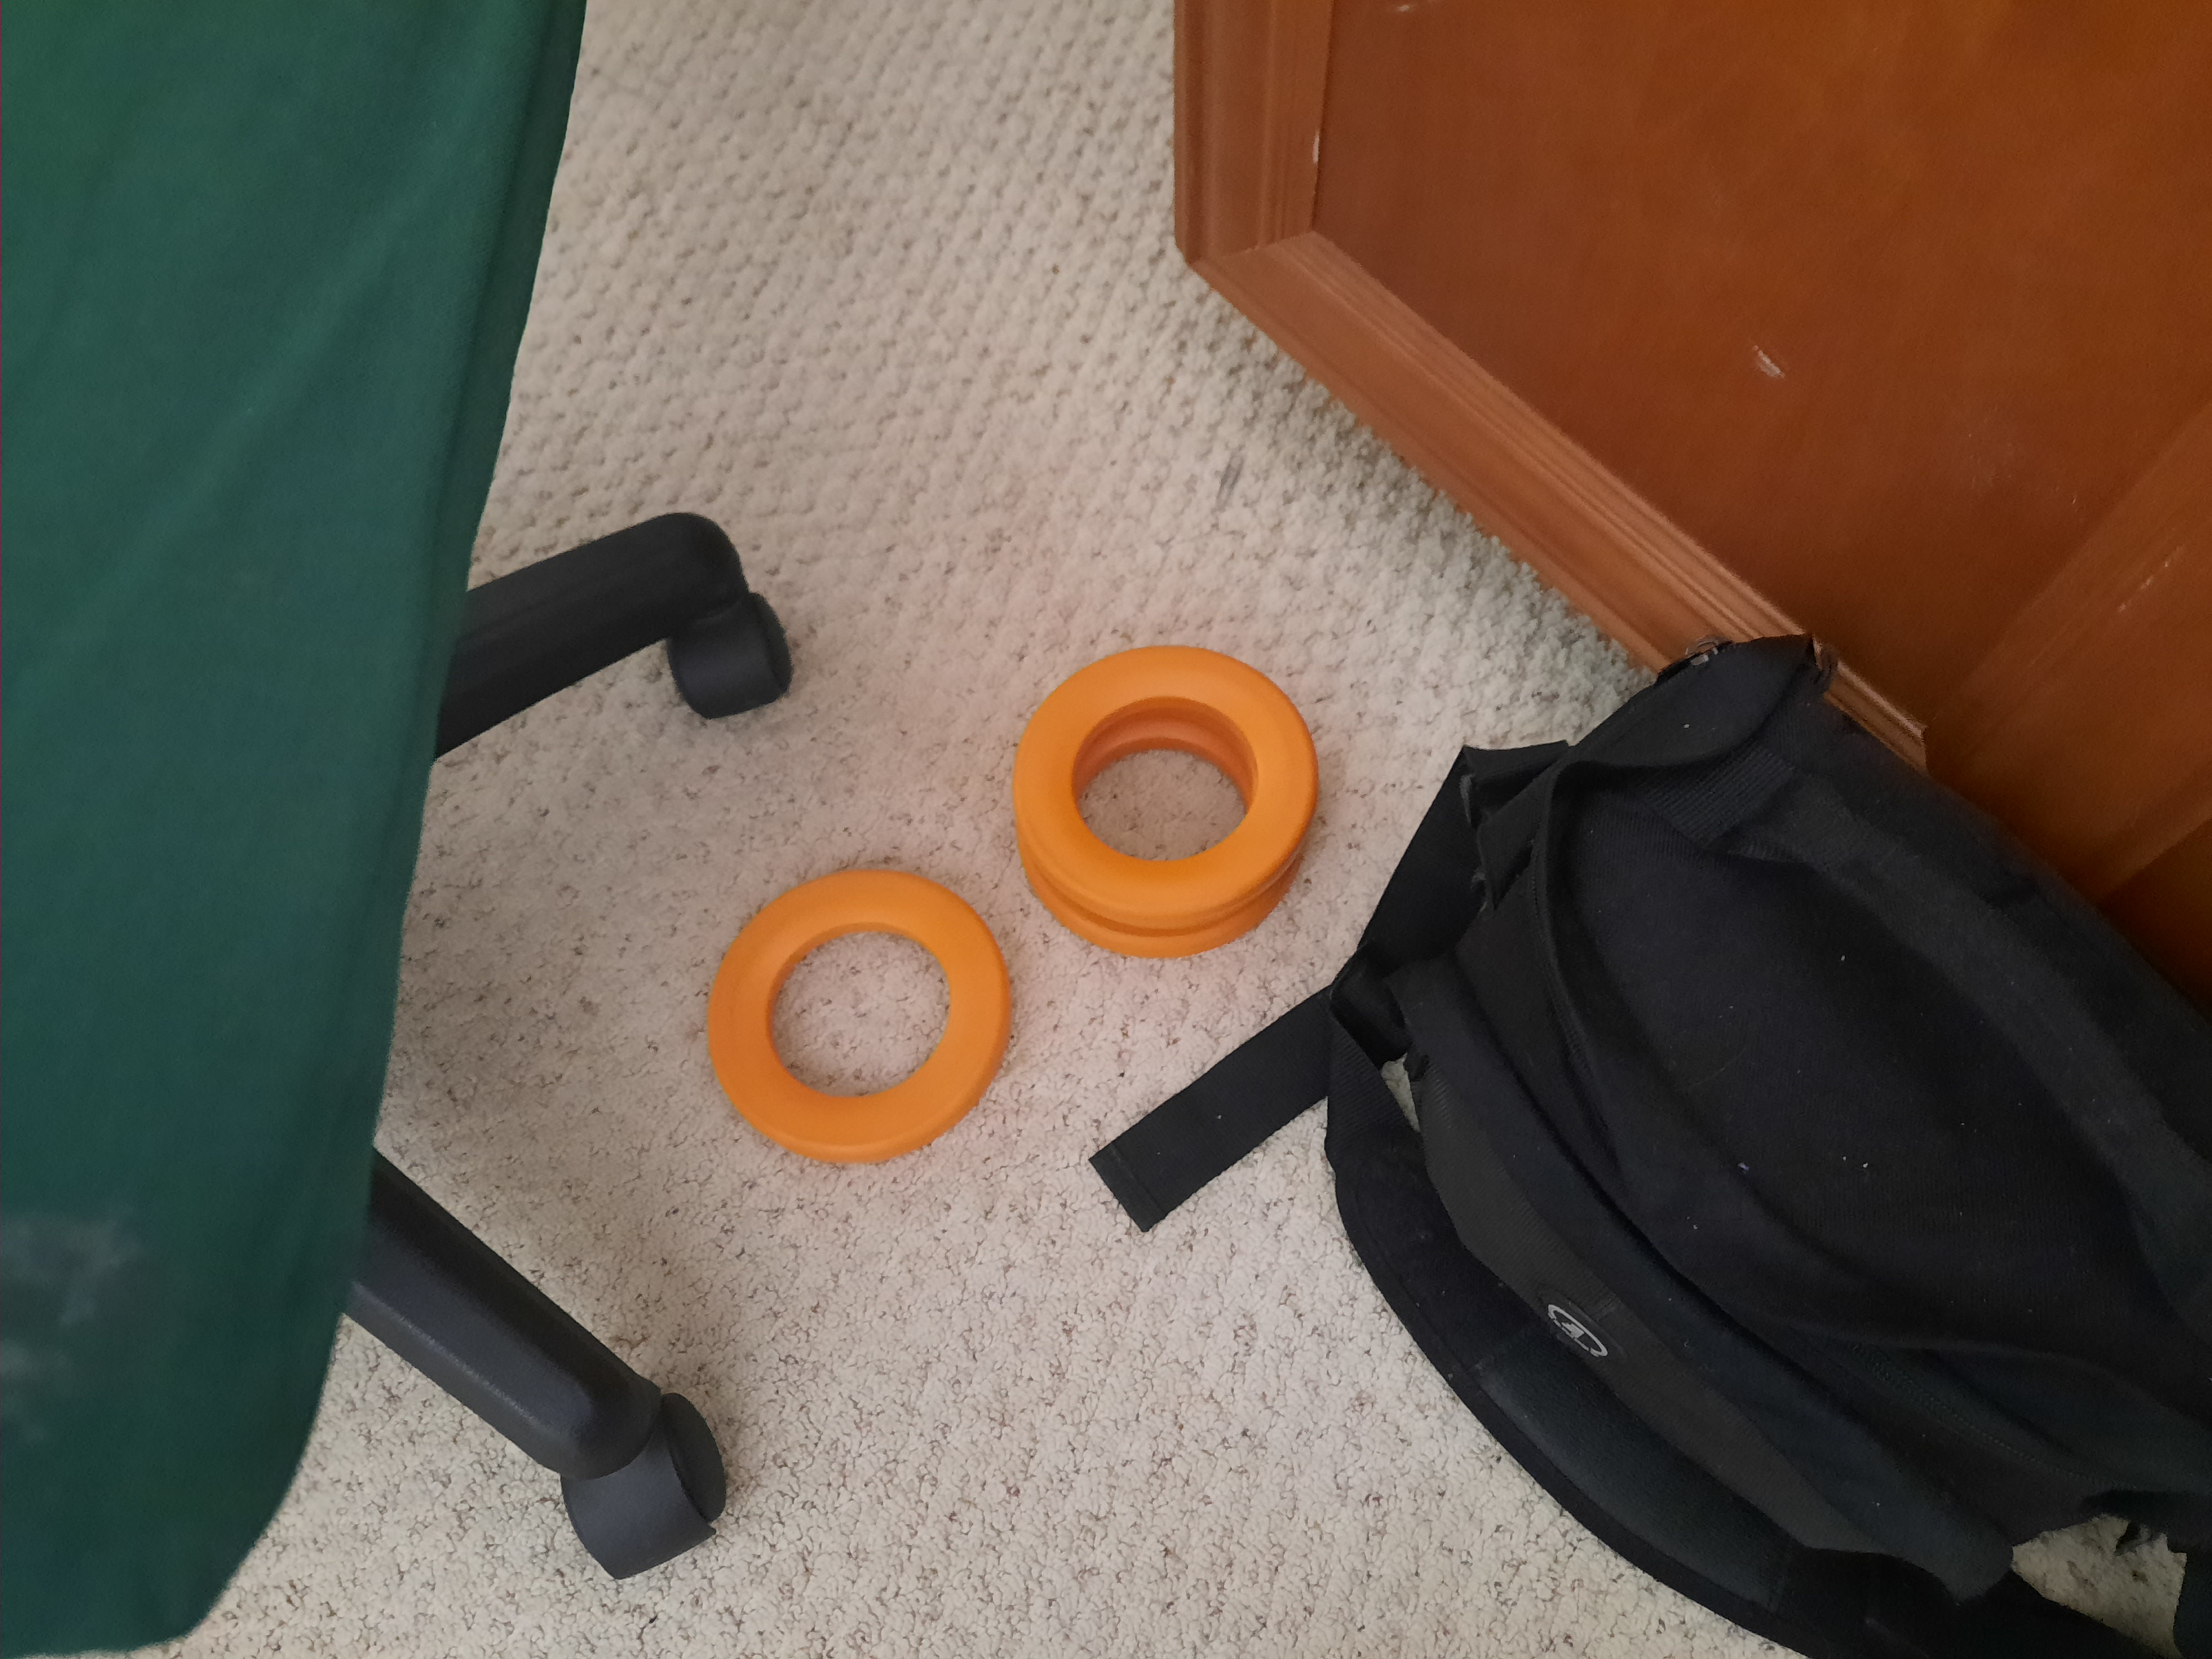FourStack: (1010, 662, 1313, 943)
OneStack: (697, 873, 1005, 1152)
